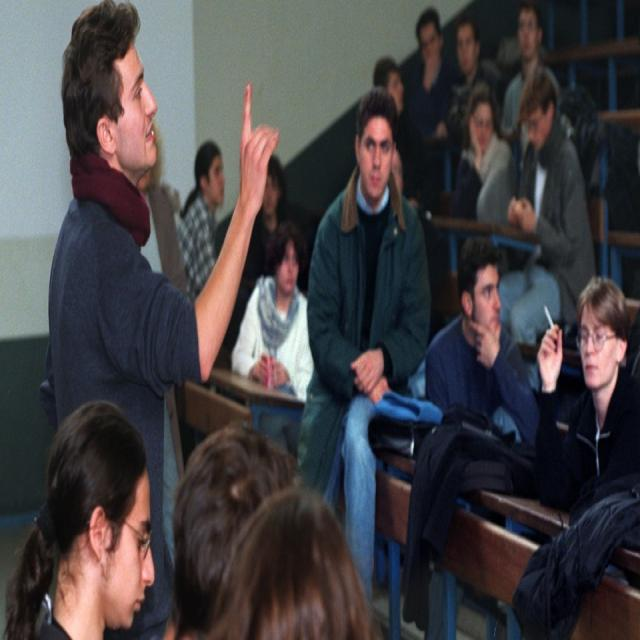body: (45, 0, 282, 639), (293, 82, 435, 621), (0, 393, 235, 639), (424, 238, 541, 639), (166, 423, 376, 640), (486, 66, 596, 392), (535, 273, 640, 521), (230, 219, 315, 465), (499, 0, 565, 204), (453, 82, 516, 293), (176, 138, 225, 301), (239, 151, 290, 293), (406, 3, 459, 133), (446, 17, 493, 147), (371, 53, 407, 119), (141, 110, 164, 193)
